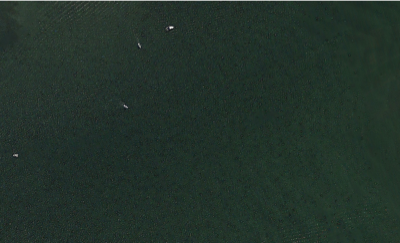boat: (165, 25, 175, 30), (13, 153, 19, 157), (124, 104, 129, 108), (138, 43, 142, 48)
